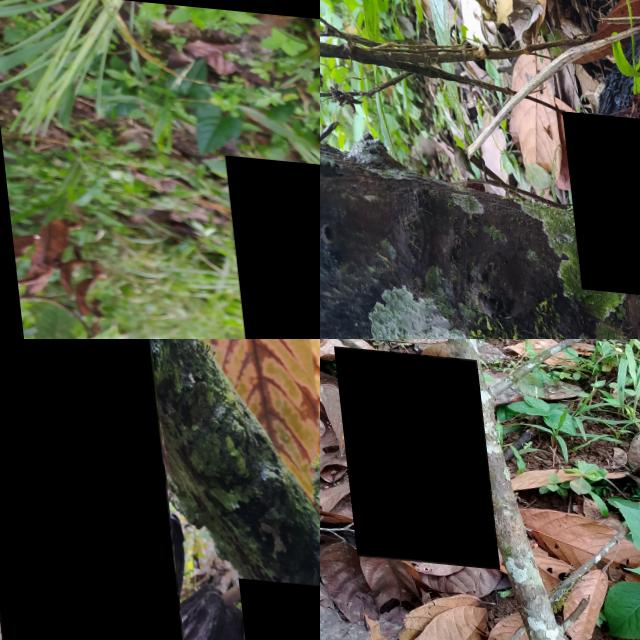Fitoftora: (221, 150, 320, 339)
Monilia: (0, 339, 182, 640), (329, 342, 491, 562), (557, 104, 640, 299), (229, 569, 320, 640)
